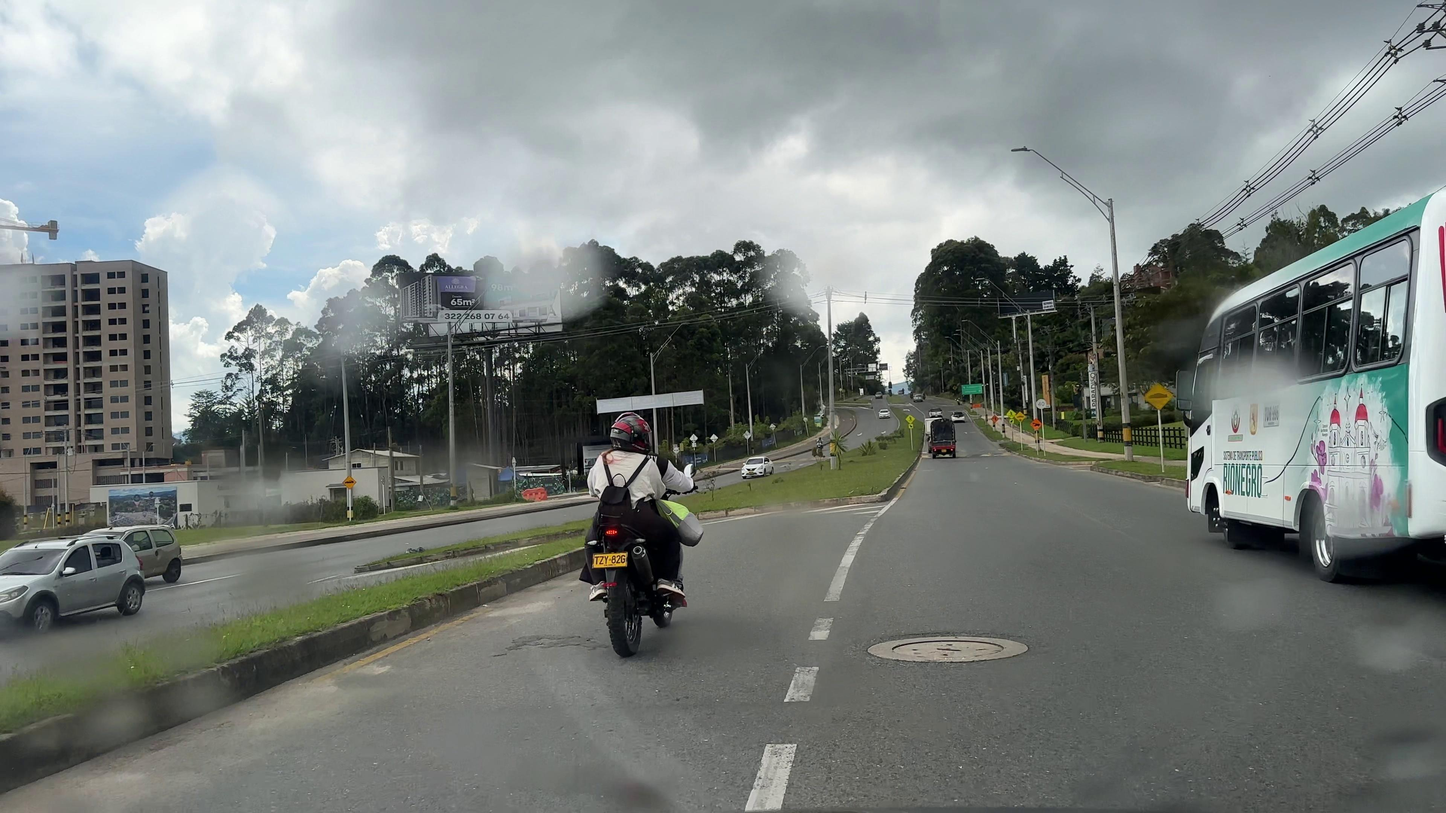bache: (505, 635, 607, 651)
registro: (892, 640, 1004, 658)
